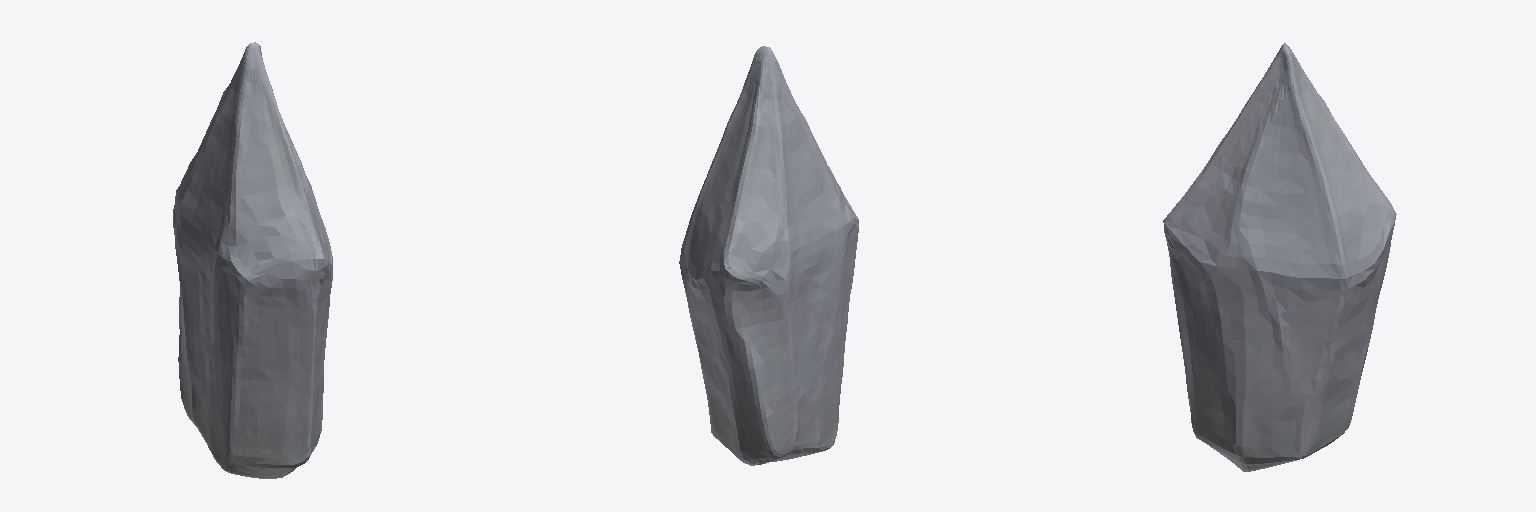
3 renders of one model, left to right at view 1: azimuth 30°, elevation 25°; view 2: azimuth 150°, elevation 25°; view 3: azimuth 270°, elevation 25°, orthographic.
Visible parts, largest first — view 1: mesh; view 2: mesh; view 3: mesh.
Boxes of the visible parts, x1,y1,x2,y2 form: mesh: [173, 42, 332, 478]; mesh: [679, 46, 858, 465]; mesh: [1163, 43, 1396, 471].
Size of the model in its own units: 0.2873 by 0.9971 by 0.4982.
Materials: 1 (1 with a texture image).